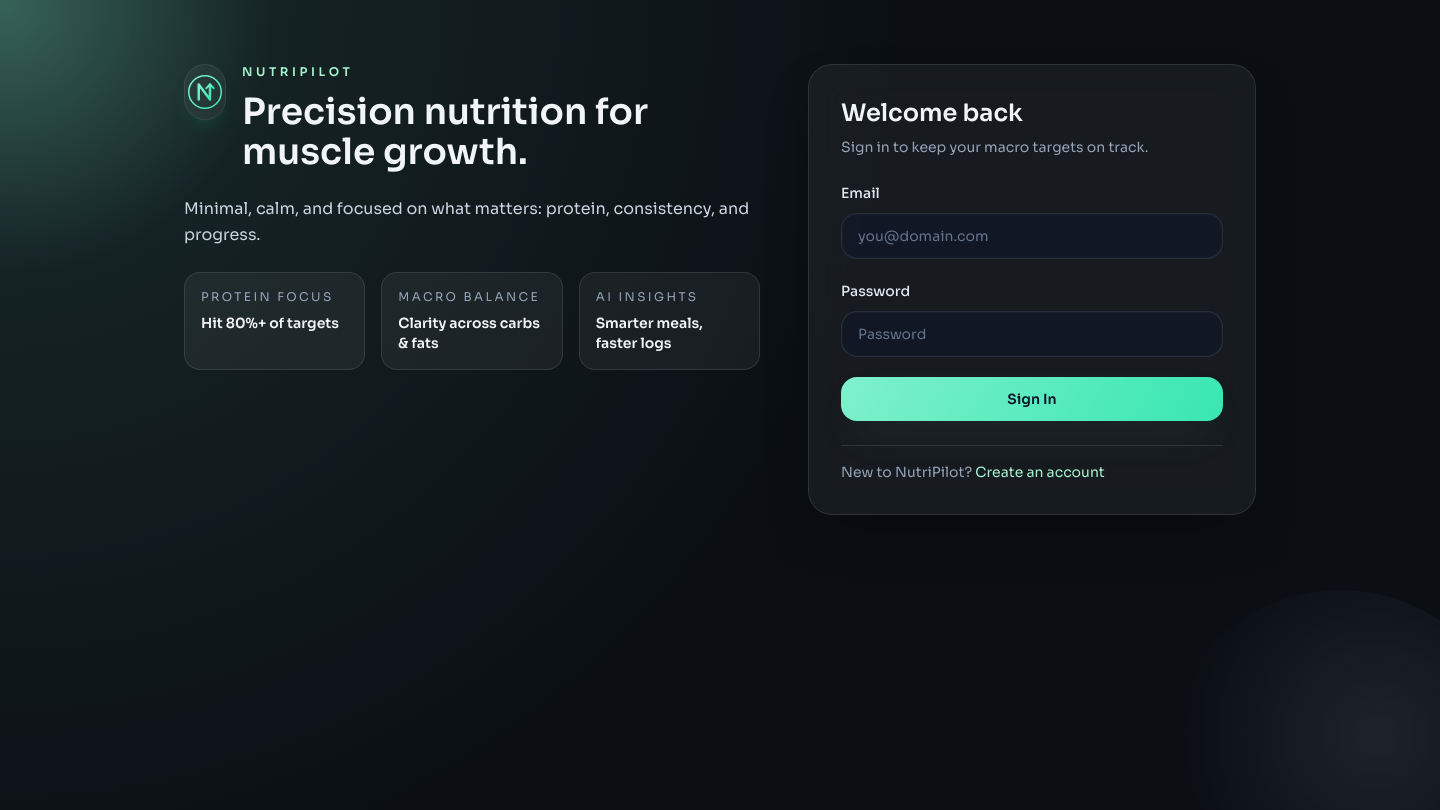
Test: LoginForm › shows error banner when sign-in fails
Step 1. Type "user@example.com" into the field labelled "Email" → (1032,236), box [841,213,1223,259]
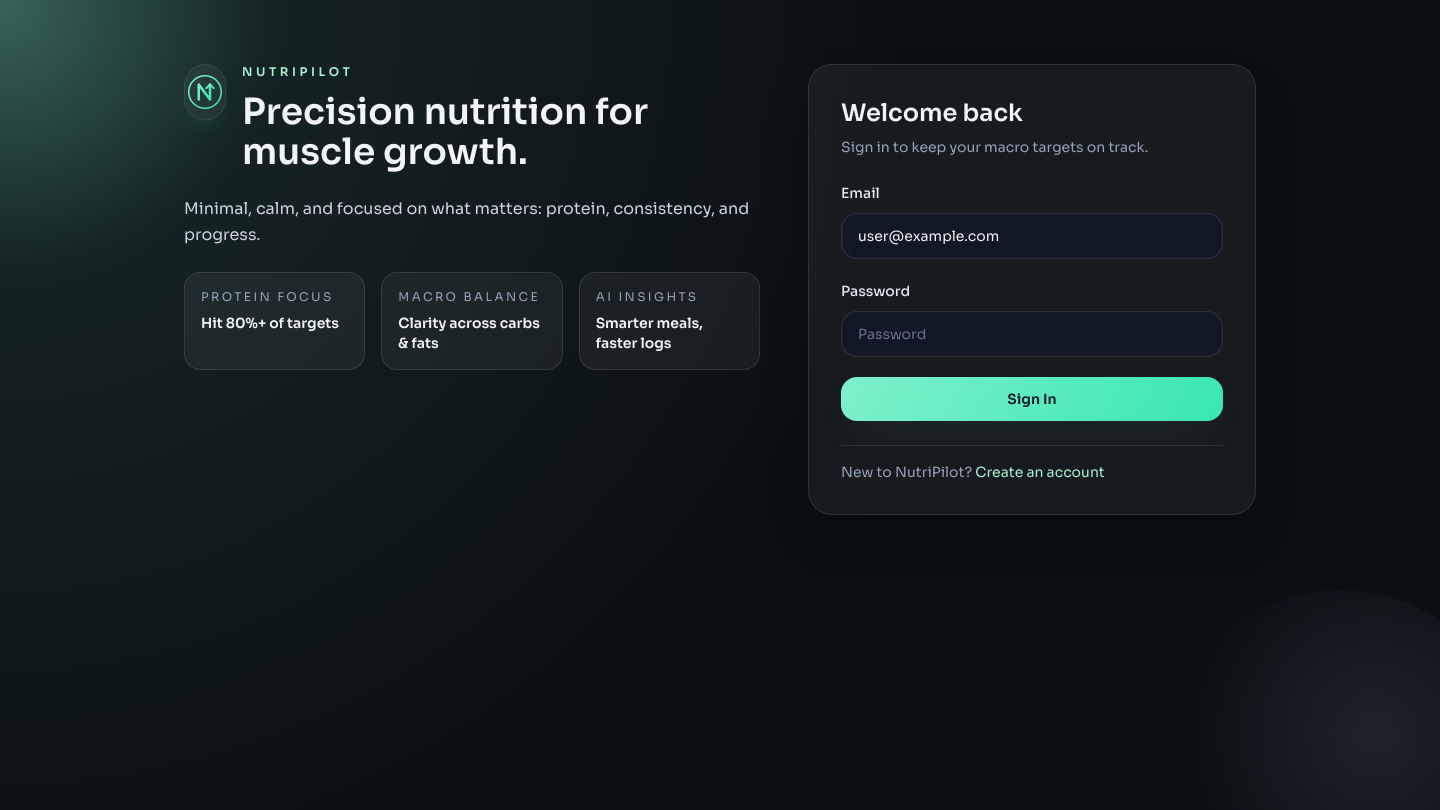
Step 2. Type "StrongPass1" into the password field labelled "Password" → (1032,334), box [841,311,1223,357]
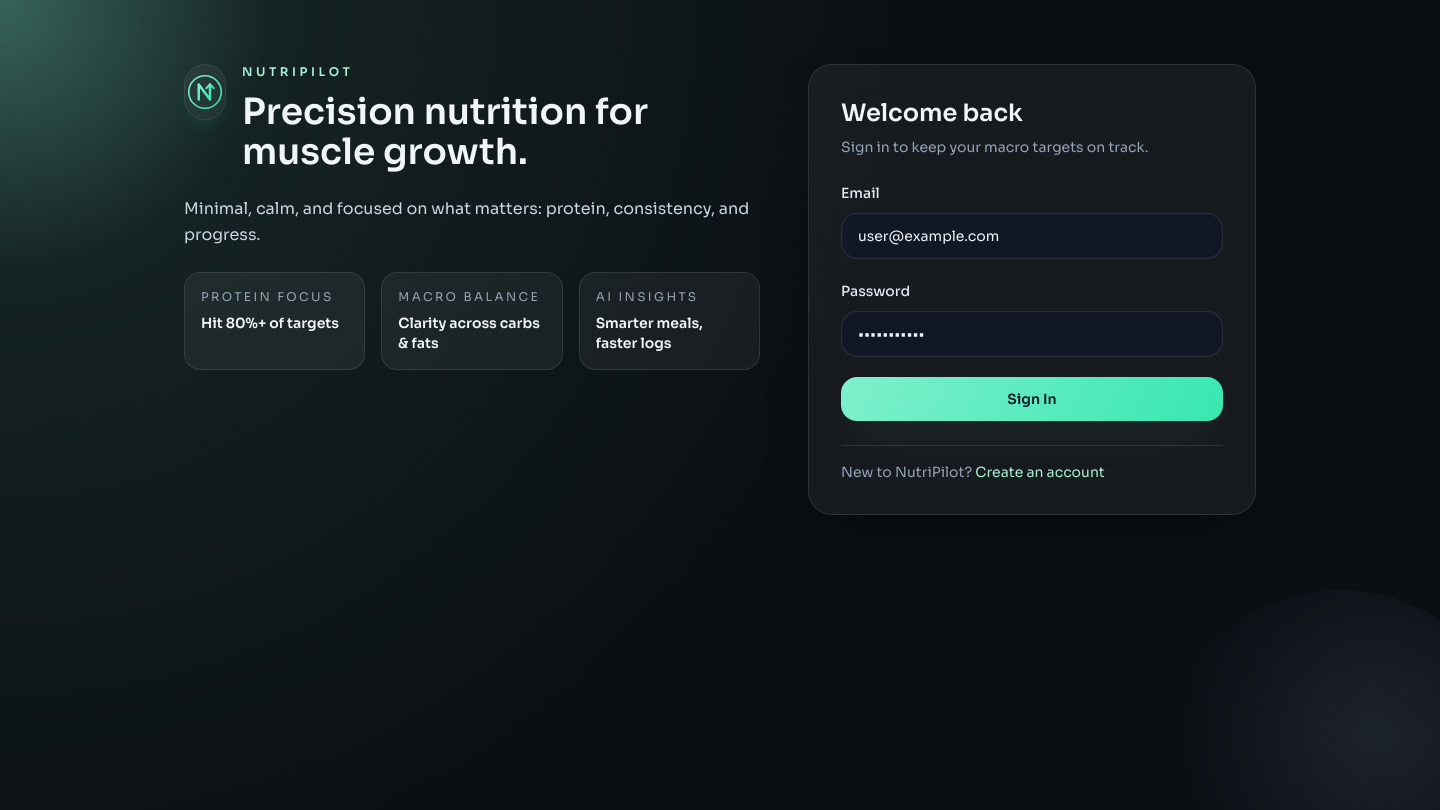
Step 3. Click the button "Sign In" → (1032,399), box [841,377,1223,421]
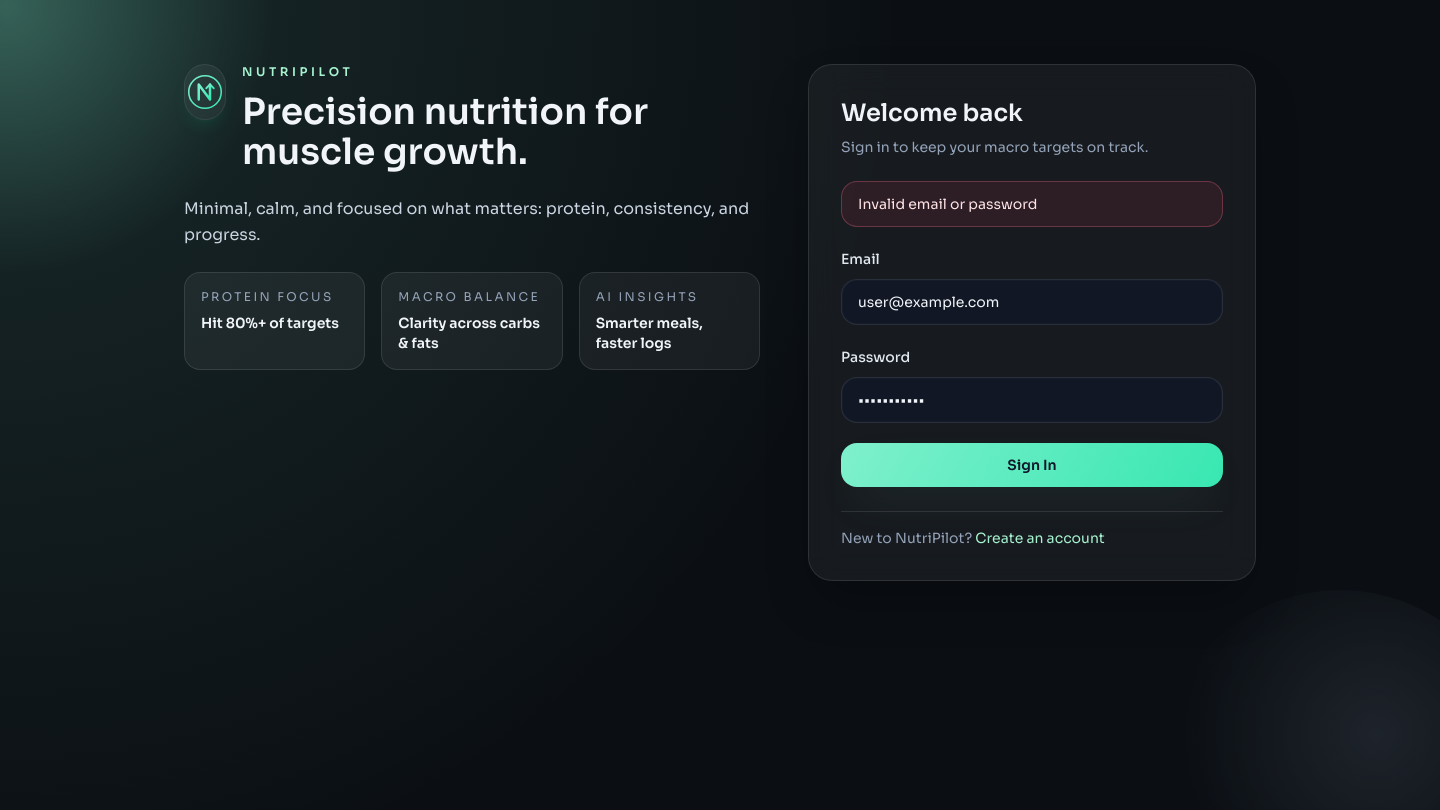
Result: the text "Invalid email or password" is shown at [841,181,1223,227]
